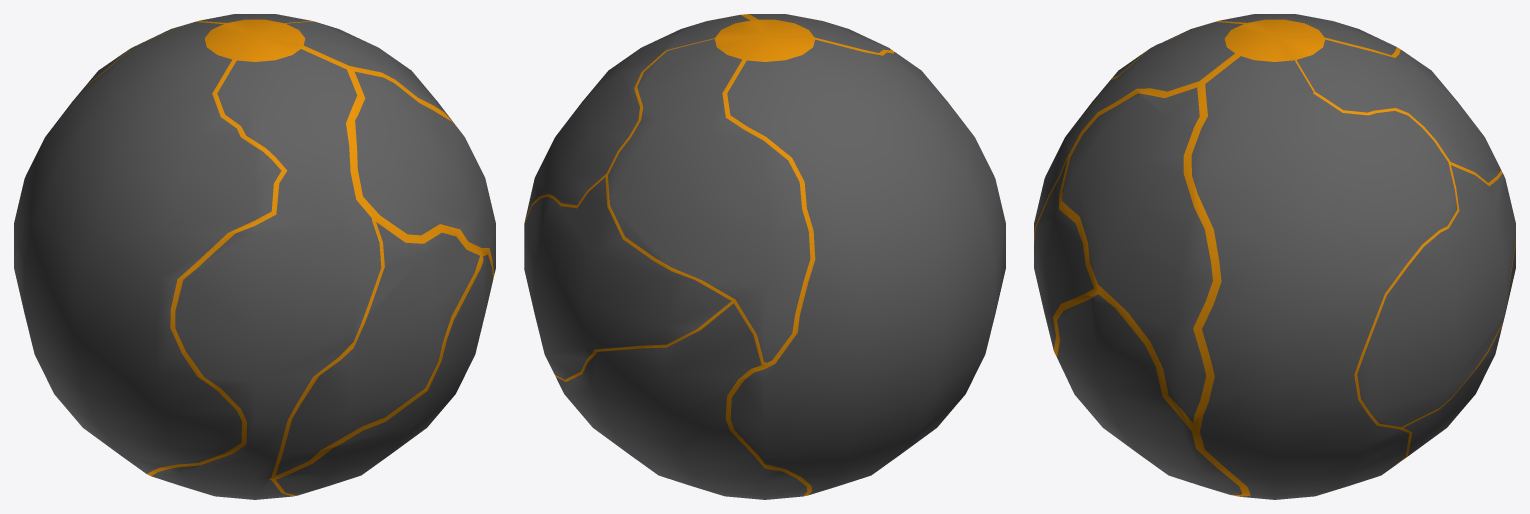
The model's file is Skin_Volcan.fbx.
3 renders of one model, left to right at view 1: azimuth 30°, elevation 25°; view 2: azimuth 150°, elevation 25°; view 3: azimuth 270°, elevation 25°, orthographic.
Parts seen in each view (by area): view 1: pSphere6; view 2: pSphere6; view 3: pSphere6.
Boxes of the visible parts, box(x1,y1,x2,y2) form: pSphere6: box(14, 14, 495, 499); pSphere6: box(524, 14, 1005, 499); pSphere6: box(1034, 14, 1515, 499).
Bounding box in the file's own units: 0.0984 × 0.1 × 0.0989.
